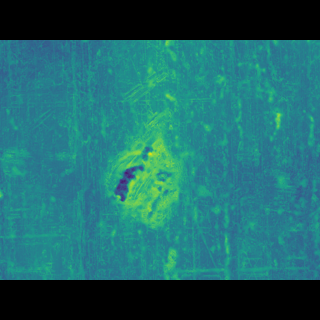Loch: (106, 136, 187, 209), (141, 110, 216, 136), (126, 88, 167, 118)
